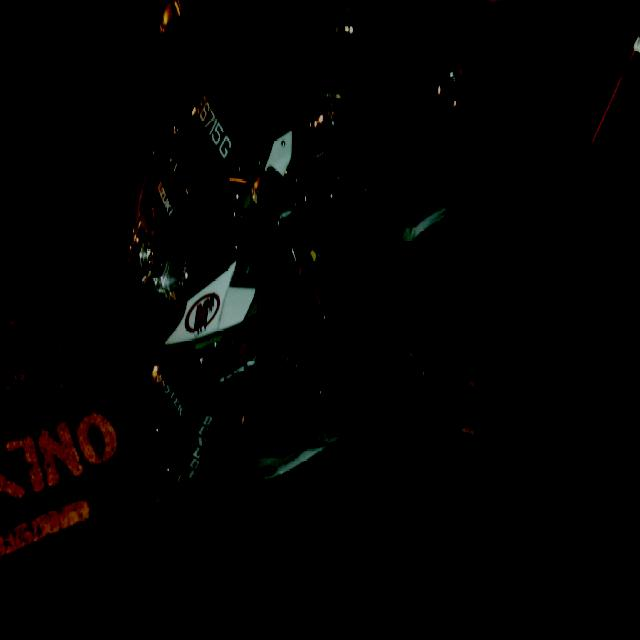Motorbike: (95, 2, 542, 640)
